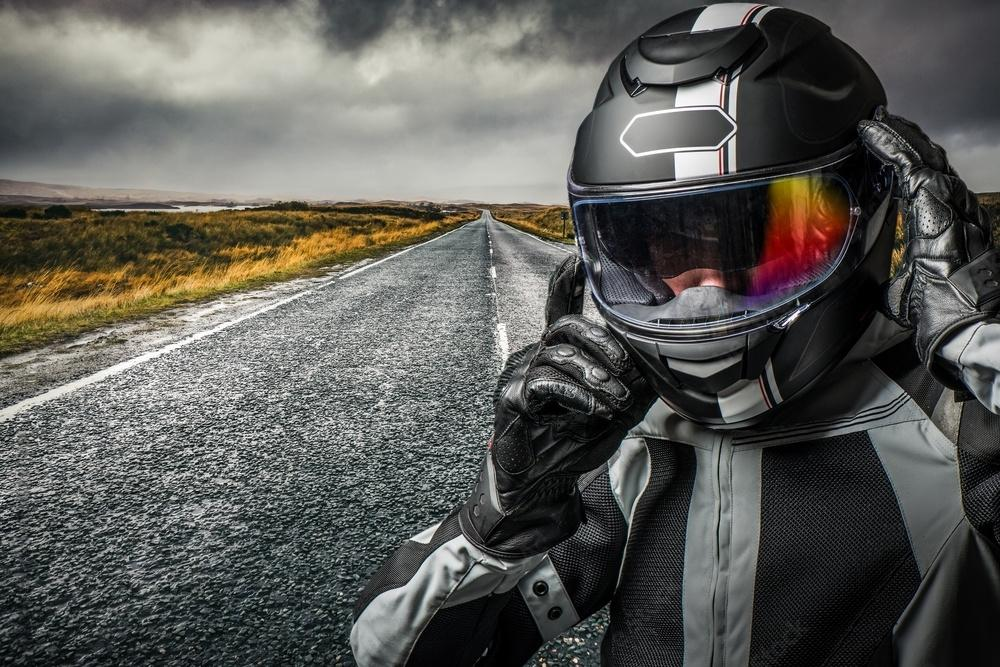helmet: (566, 0, 906, 436)
